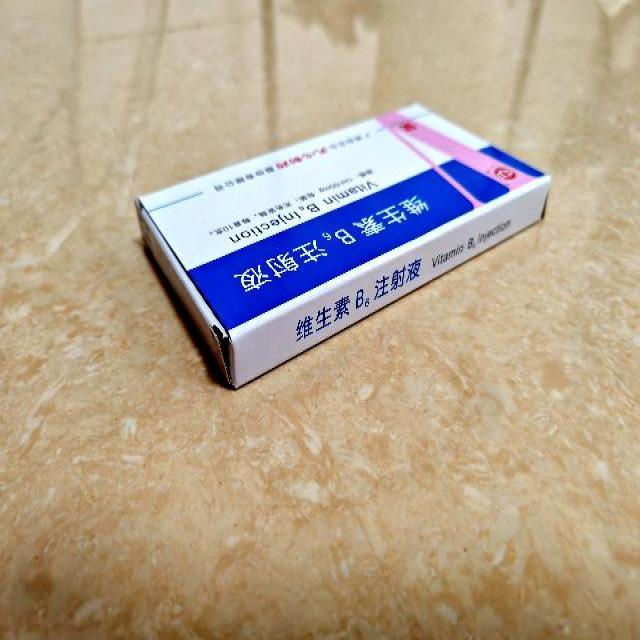box: (135, 102, 550, 388)
